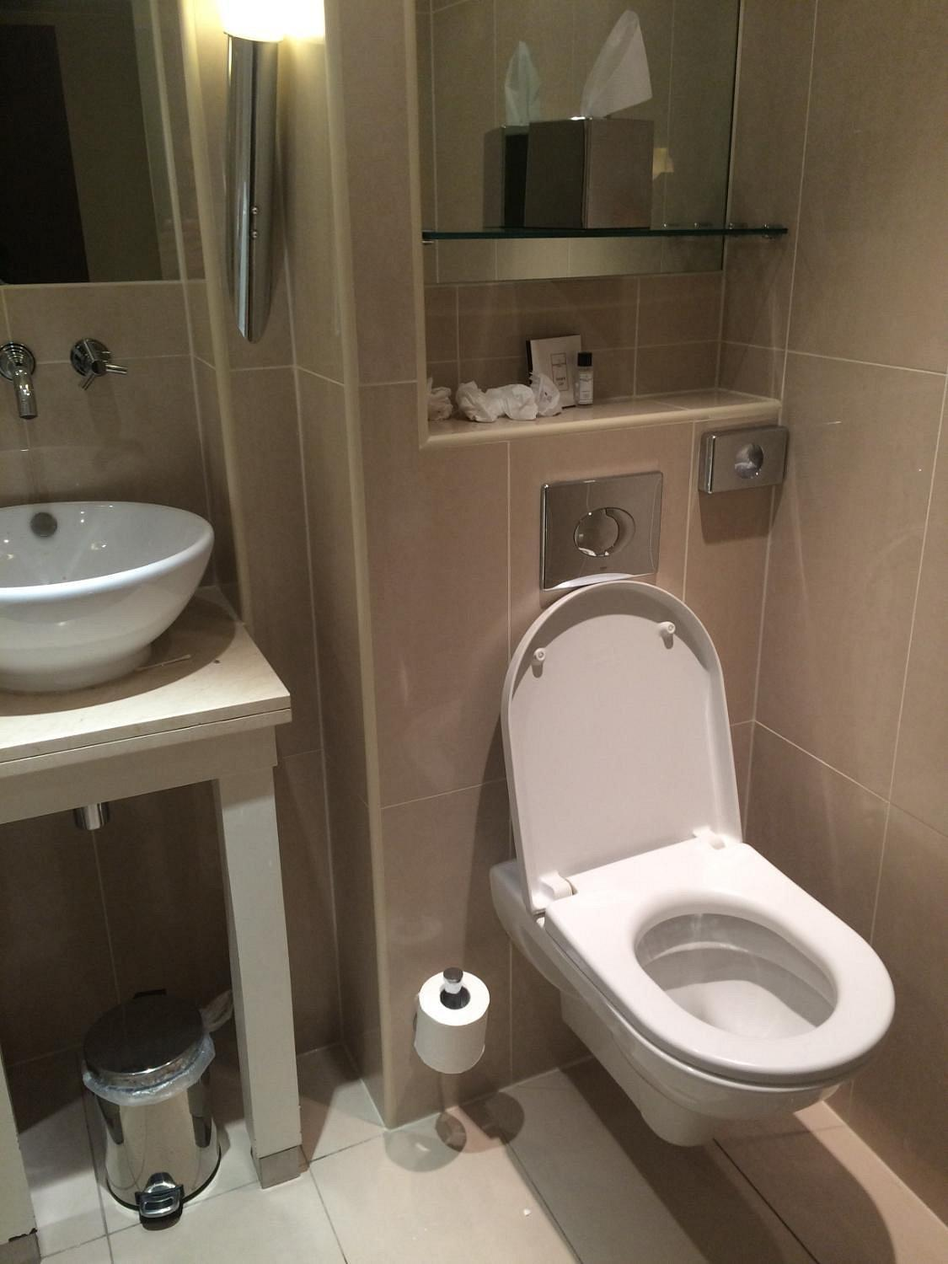clean_sink: (0, 345, 240, 687)
mess: (398, 350, 624, 442)
